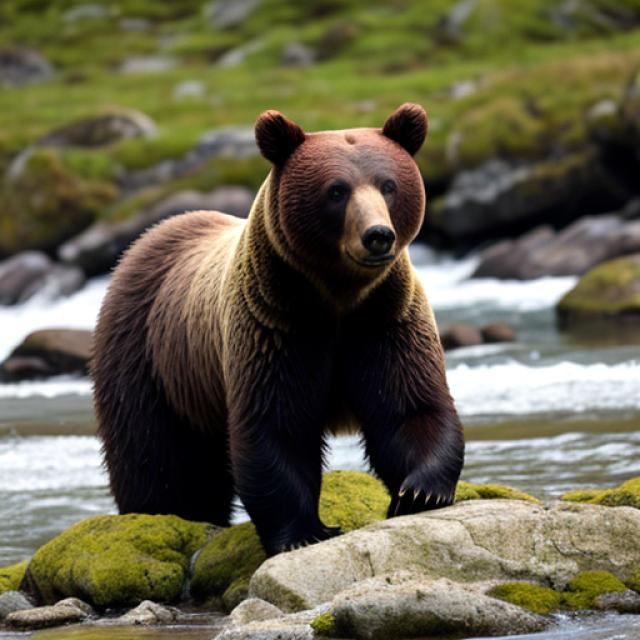bear: (78, 108, 499, 534)
